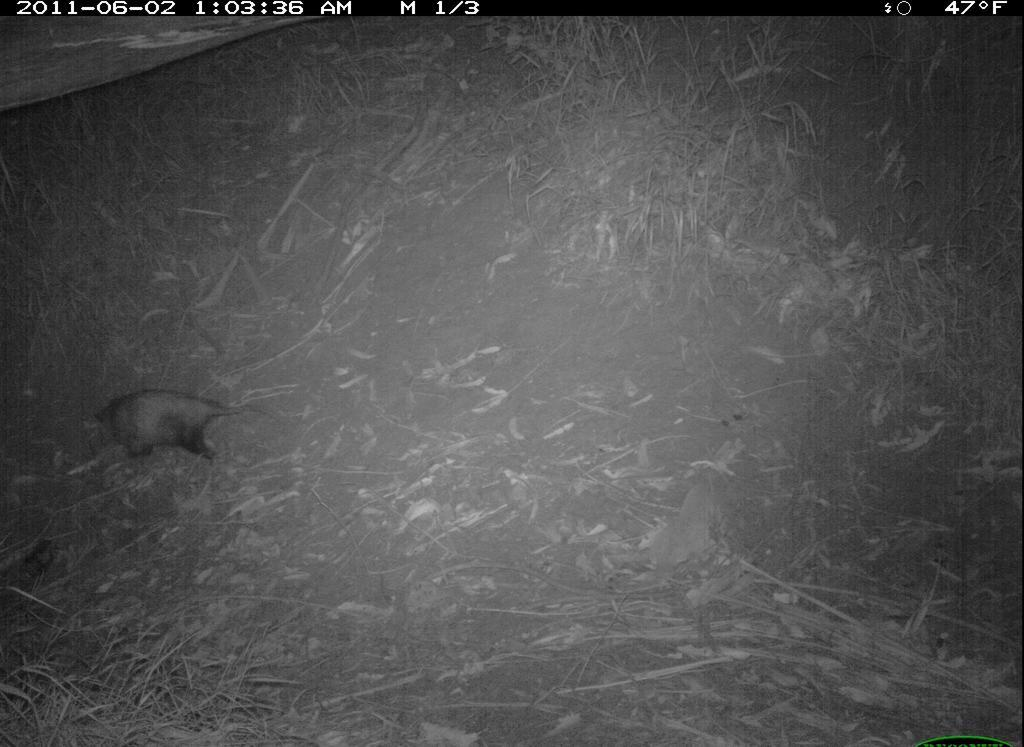opossum: (94, 372, 253, 473)
